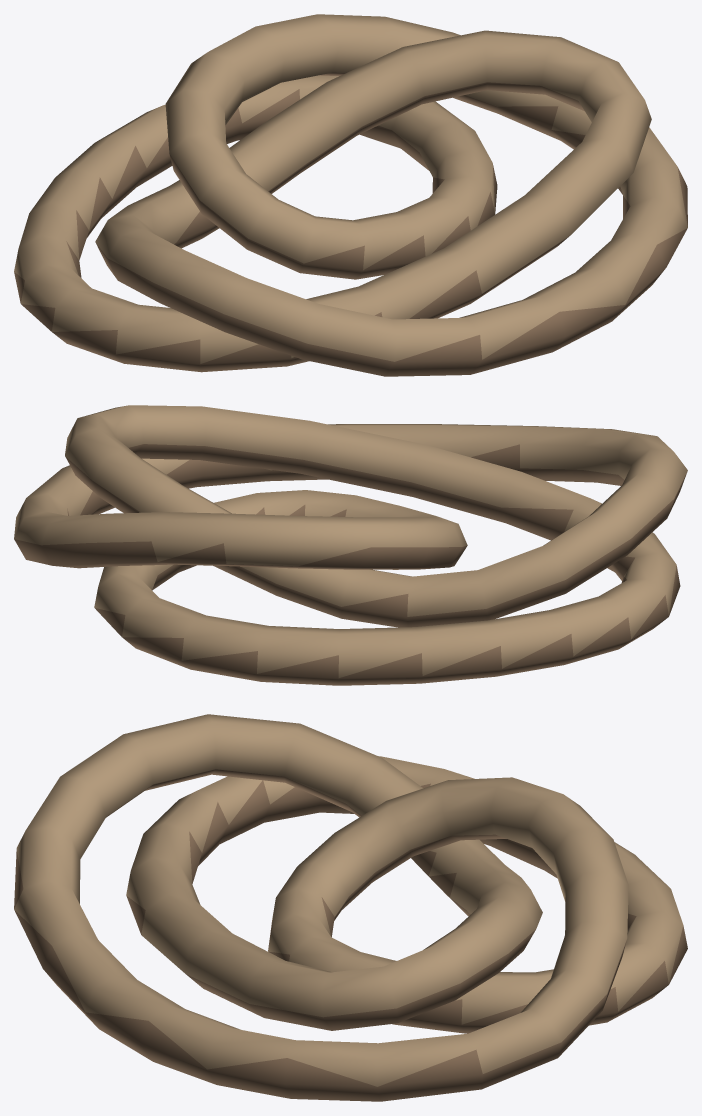
File: itch_kaykit_rpg_tools_rope_bundle_b.glb
The picture shows the model from 3 angles, top to bottom: view 1: azimuth 30°, elevation 25°; view 2: azimuth 150°, elevation 25°; view 3: azimuth 270°, elevation 25°; orthographic projection. The views are drawn at different scales.
Visible parts, largest first — view 1: rope_bundle_B; view 2: rope_bundle_B; view 3: rope_bundle_B.
Boxes of the visible parts, bbox=[...] form: rope_bundle_B: bbox=[14, 14, 687, 376]; rope_bundle_B: bbox=[14, 405, 687, 685]; rope_bundle_B: bbox=[14, 714, 687, 1101].
Size of the model in its own units: 1.18 by 0.2599 by 1.06.
